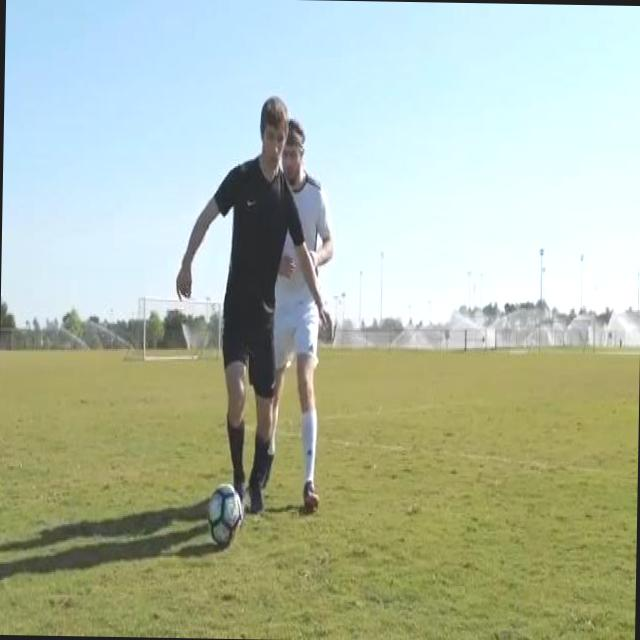Soccer Ball: (206, 486, 243, 549)
